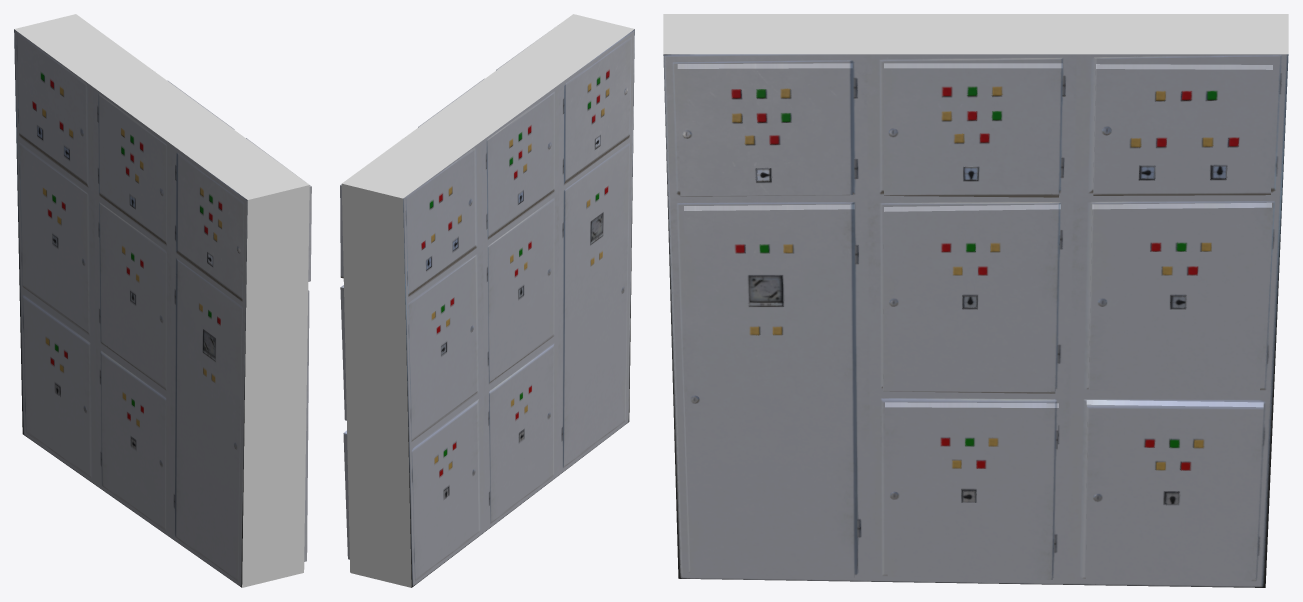
File: panel2_2.fbx
The picture shows the model from 3 angles, left to right: view 1: azimuth 30°, elevation 25°; view 2: azimuth 150°, elevation 25°; view 3: azimuth 270°, elevation 25°; orthographic projection. The views are drawn at different scales.
Visible parts, largest first — view 1: panel2; view 2: panel2; view 3: panel2.
Part boxes in pixels (left/top/right/bottom): panel2: left=14, top=14, right=311, bottom=587; panel2: left=340, top=14, right=634, bottom=587; panel2: left=663, top=14, right=1288, bottom=587.
Bounding box in the file's own units: 17.78 × 97.51 × 104.
Materials: 2 (1 with a texture image).
